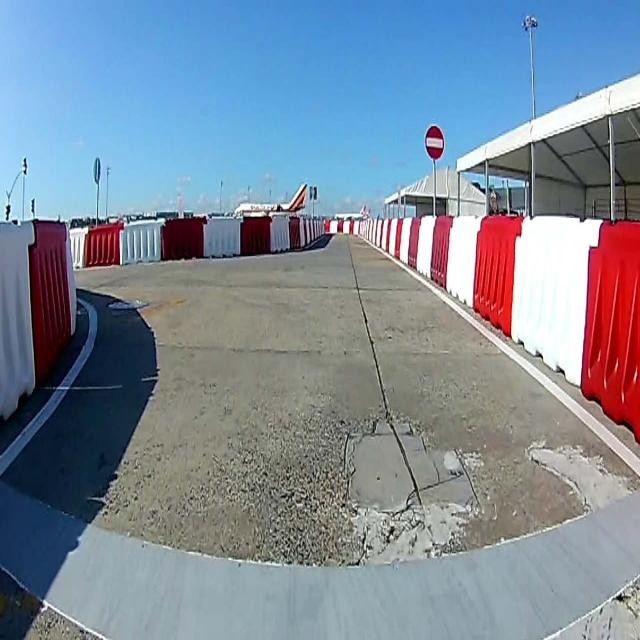girisyok: (424, 126, 445, 160)
